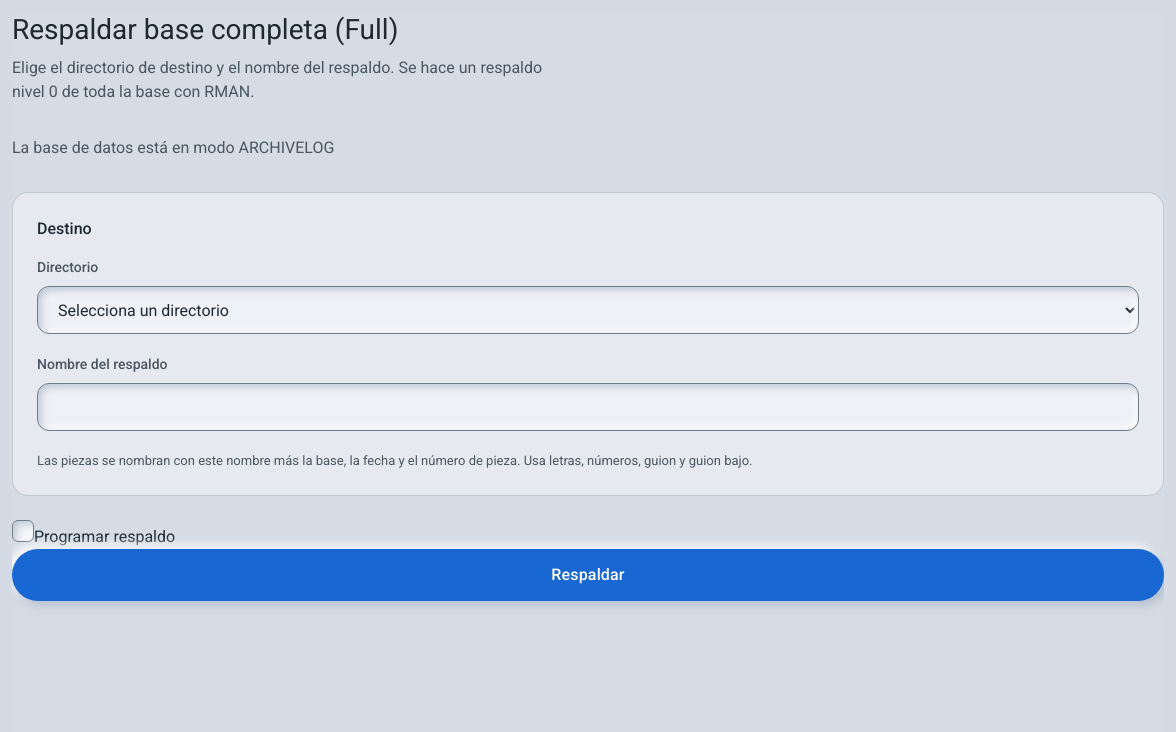
pantalla de respaldo Full › si faltan datos (422) indica cada uno y no da por creado el respaldo
Select "RESPALDO (/opt/oracle/Respaldos)" in the dropdown labelled "Directorio". click: (588, 310)
box: [37,286,1139,334]
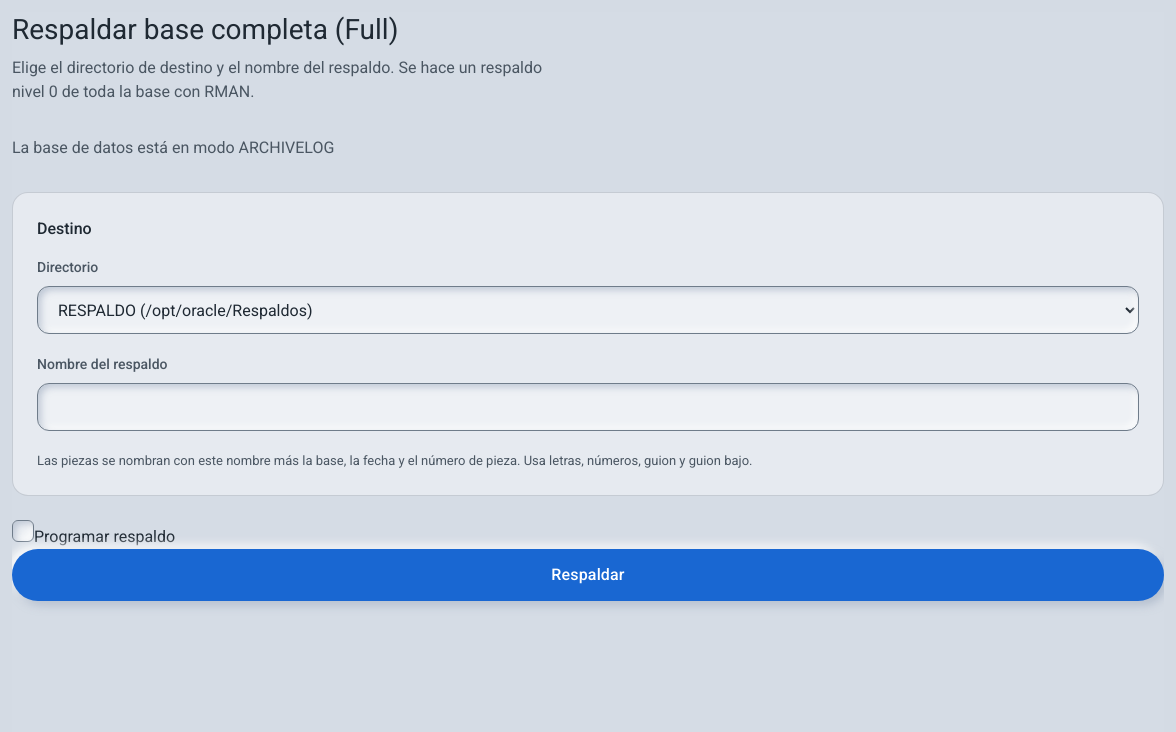
Click the button "Respaldar". click: (588, 574)
box: [12,548,1164,600]
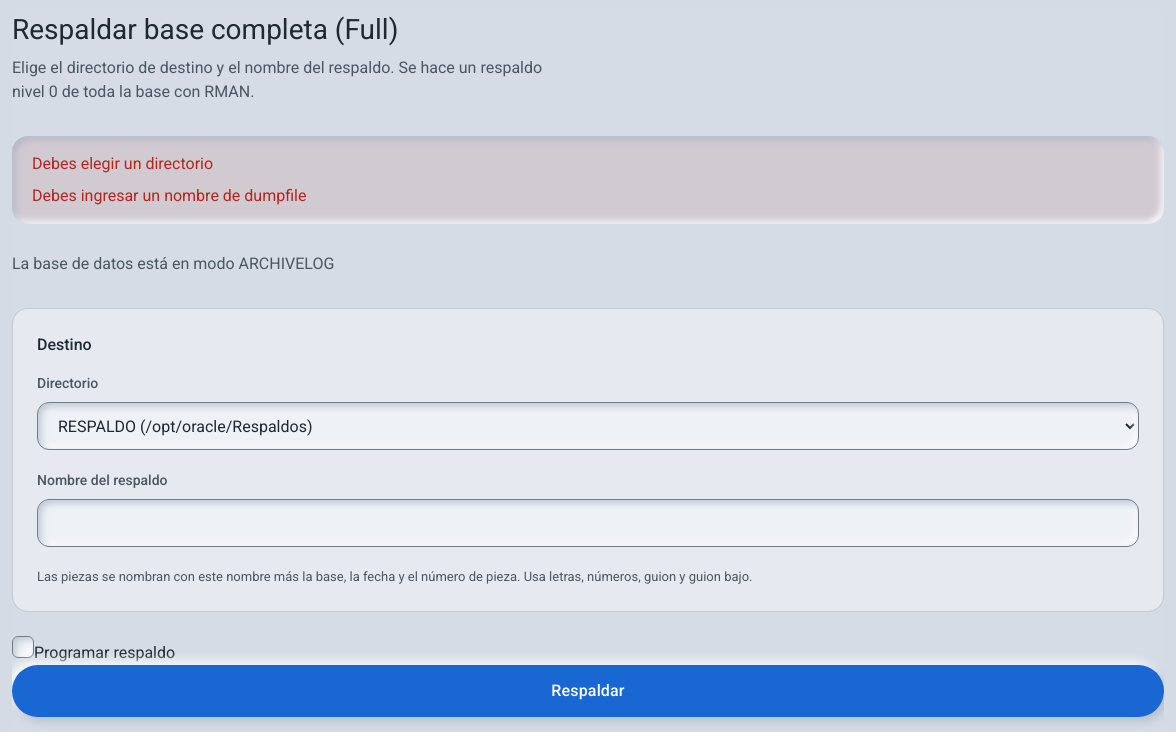
Result: the message shows "Debes elegir un directorio" at [32,154,213,173]
Result: the message shows "Debes ingresar un nombre de dumpfile" at [32,186,306,205]
